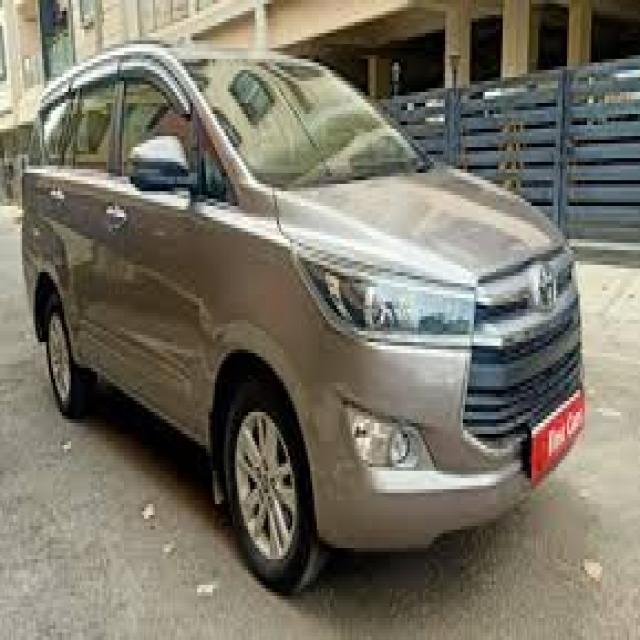light_vehicle: (22, 39, 584, 598)
